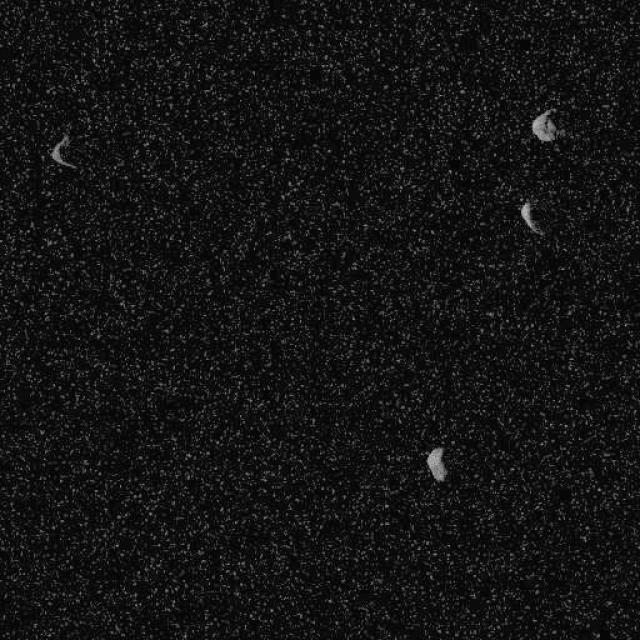D2: (48, 131, 78, 170), (530, 106, 558, 142), (518, 200, 544, 236), (425, 445, 447, 483)
